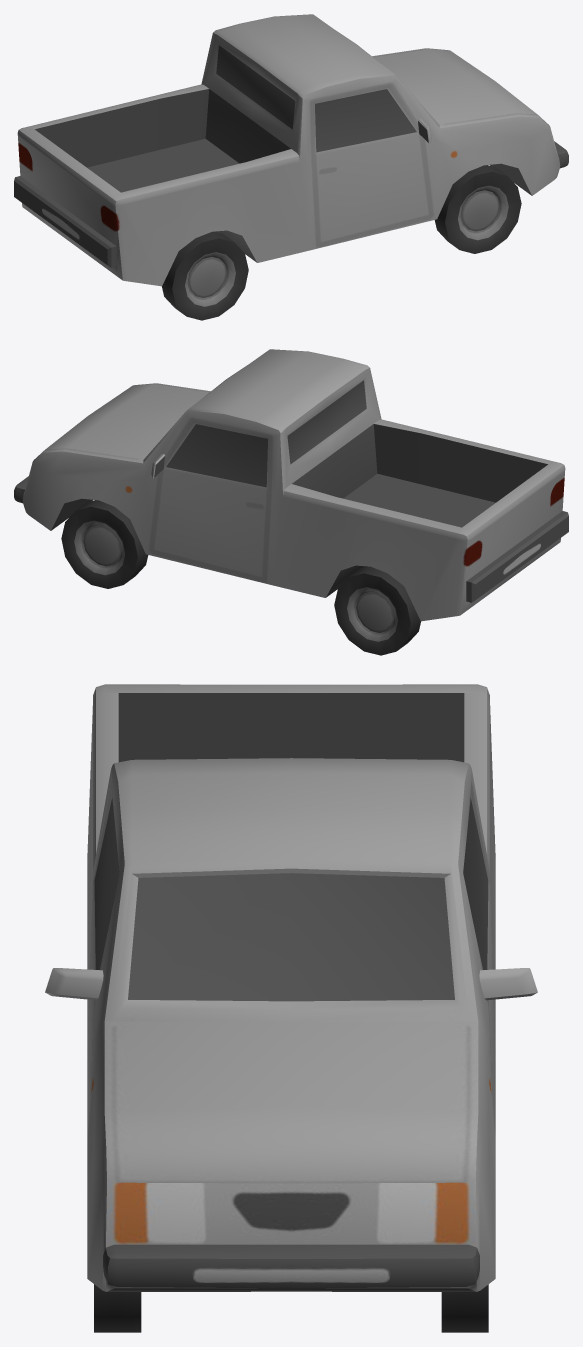
File: Pickup.FBX
3 renders of one model, top to bottom at view 1: azimuth 30°, elevation 25°; view 2: azimuth 150°, elevation 25°; view 3: azimuth 270°, elevation 25°, orthographic. The views are drawn at different scales.
Visible parts, largest first — view 1: Box001, Wheel BR, Wheel FR; view 2: Box001, Wheel BL, Wheel FL; view 3: Box001, Wheel FL, Wheel FR.
Part boxes in pixels (<box>): Box001: <box>14,14,568,286</box>; Wheel BR: <box>162,231,248,320</box>; Wheel FR: <box>434,165,521,253</box>; Box001: <box>14,349,568,621</box>; Wheel BL: <box>334,566,420,655</box>; Wheel FL: <box>61,500,148,588</box>; Box001: <box>45,684,537,1291</box>; Wheel FL: <box>441,1284,488,1332</box>; Wheel FR: <box>94,1284,141,1332</box>.
Size of the model in its own units: 62.78 by 25.94 by 28.91.
